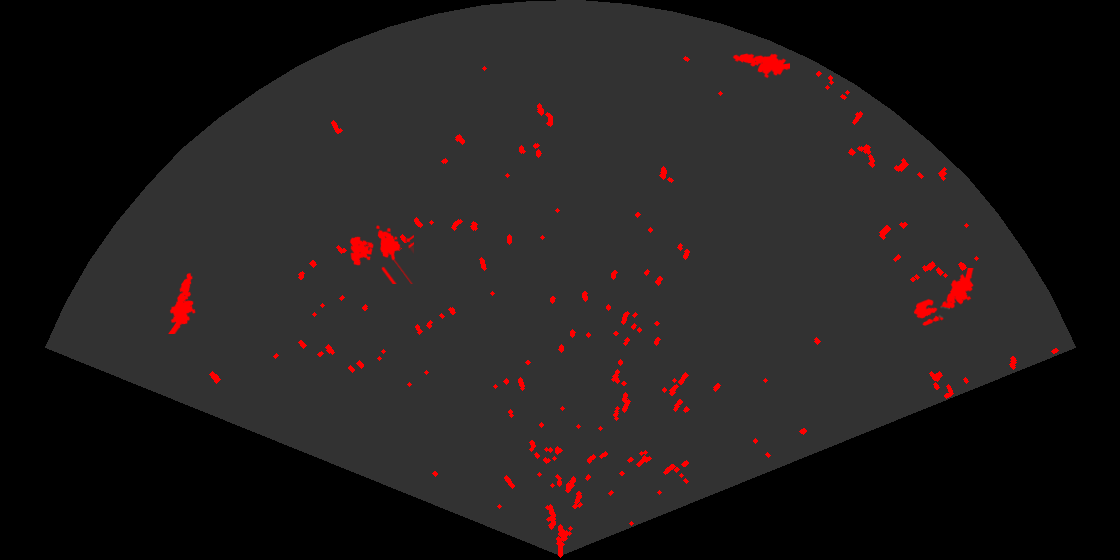ball: (912, 297, 941, 328)
cage: (348, 224, 414, 284)
frogman: (935, 268, 975, 323), (167, 271, 197, 334), (731, 52, 790, 80)
